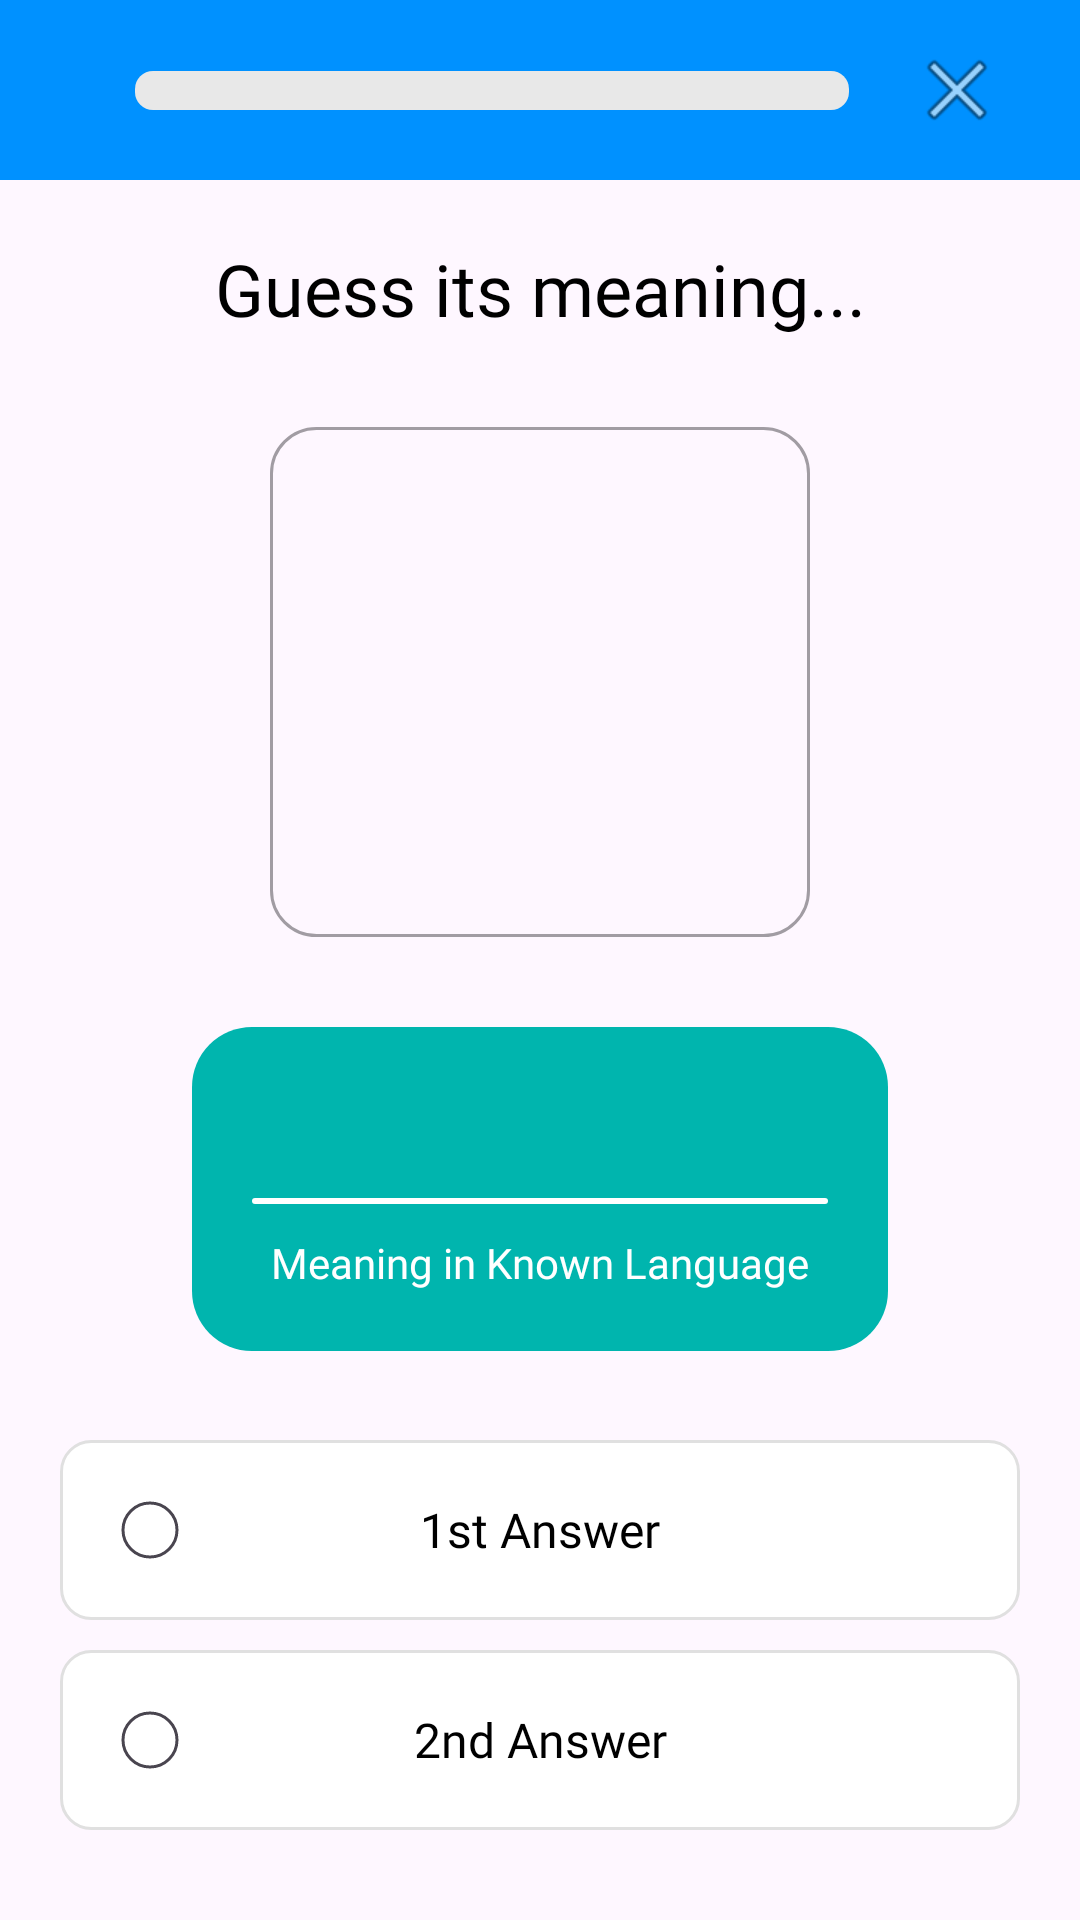

Icon bounding boxes for this 1080×1920 phone screenshot, format (x1, y1, x2, y2):
close clear cancel: (927, 60, 987, 120)
